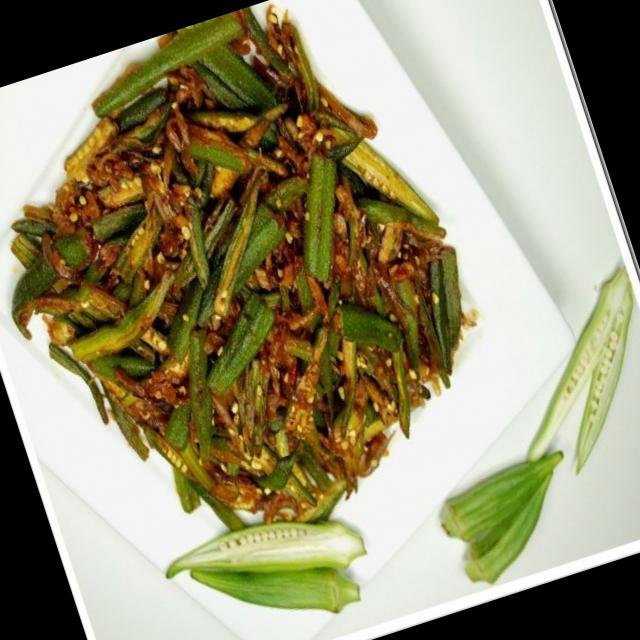BhindiMasala: (0, 0, 523, 596)
